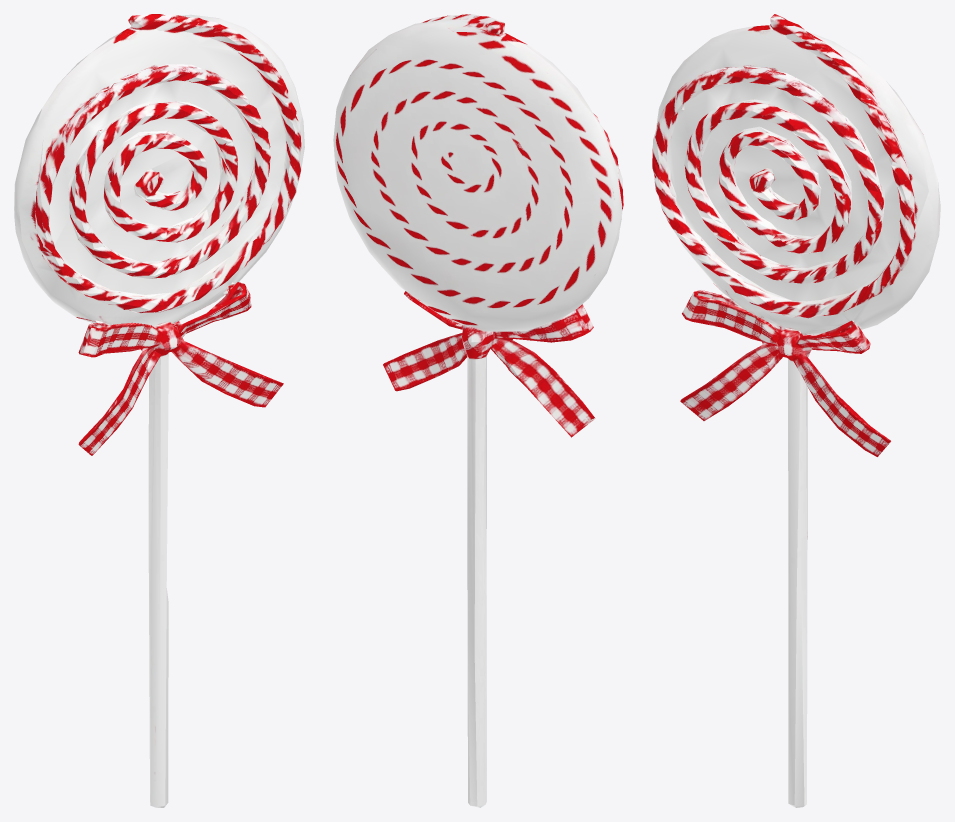
The model's file is lollipop.glb.
3 views of the same model, side by side, from view 1: azimuth 30°, elevation 25°; view 2: azimuth 150°, elevation 25°; view 3: azimuth 330°, elevation 25° (orthographic).
Parts seen in each view (by area): view 1: Mesh1.0; view 2: Mesh1.0; view 3: Mesh1.0.
Boxes of the visible parts, x1,y1,x2,y2 form: Mesh1.0: (14, 14, 304, 807); Mesh1.0: (333, 14, 623, 807); Mesh1.0: (652, 14, 940, 807).
Bounding box in the file's own units: 0.0701 × 0.185 × 0.0135.
Materials: 1 (1 with a texture image).
